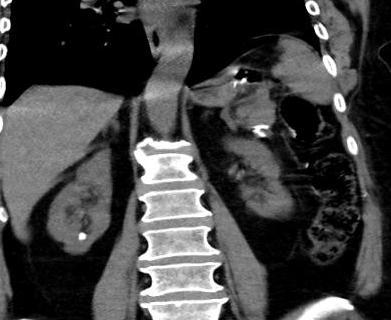Tas_Var: (78, 230, 87, 242)
